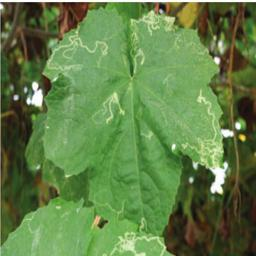liriomyza: (179, 88, 224, 169), (128, 9, 179, 75), (45, 25, 108, 74), (99, 217, 167, 256), (100, 91, 124, 124), (140, 128, 155, 140)
